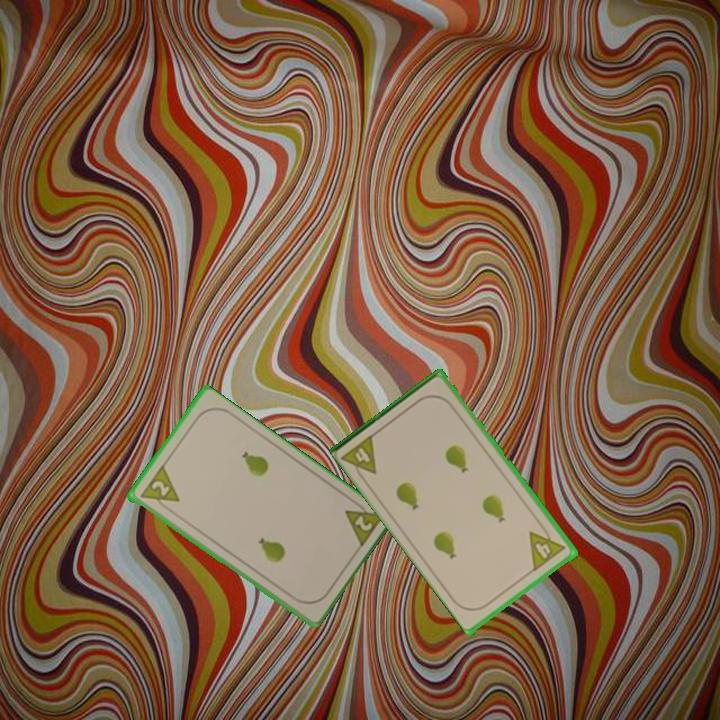2p: (340, 496, 385, 552), (136, 463, 182, 515)
4p: (339, 430, 380, 485), (526, 521, 569, 573)
